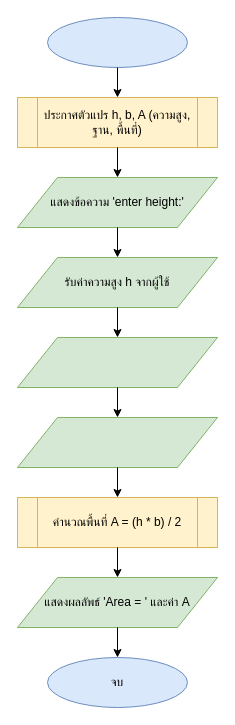
The diagram is 235 pixels wide and 725 high, and some of its shapes have lost their labels. The shapes that lost their labels are listed below. From the top down, each one's centre as x and y in pixels, then its label:
At [117,42]: "เริ่มต้น".
At [117,362]: "แสดงข้อความ 'enter base:'".
At [117,442]: "รับค่าฐาน b จากผู้ใช้".
